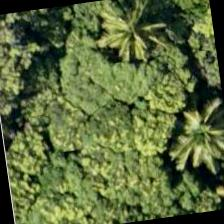Kelapa_Sawit: (83, 0, 183, 77), (154, 66, 223, 166)
